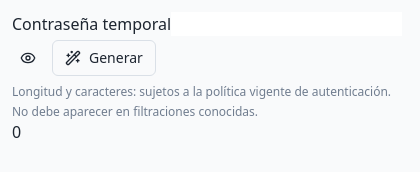
Test: UX-1a adaptación compartida de campos › Generar conserva el estado React del alta y no altera la validación nativa
This screenshot has width=420, height=172.
Later steps or results of the test are not shown.
Click the button "Generar" at (104,58), box [52, 40, 156, 76]
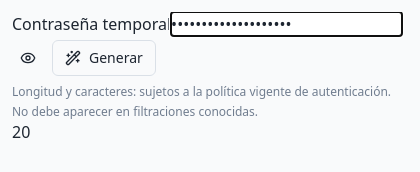
Check: the text with test id "longitud" reads "20", box [12, 121, 30, 143]
